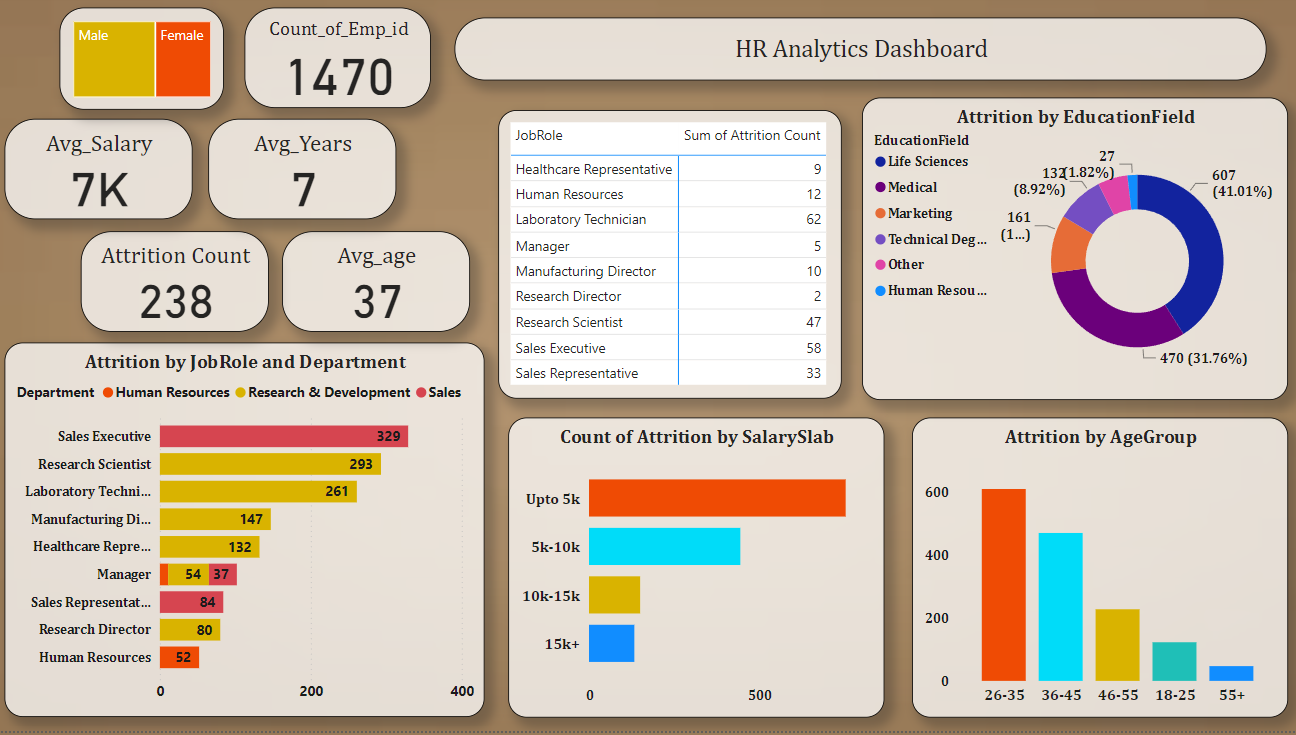

This screenshot's page, from the dashboard's own definition file:
{"tool":"powerbi","page":{"name":"Page 1","canvas":[1280,720],"ordinal":0},"visuals":[{"type":"barChart","title":"Attrition by JobRole and Department","fields":{"Category":["HR_Analytics.JobRole"],"Y":["CountNonNull(HR_Analytics.Attrition)"],"Series":["HR_Analytics.Department"]},"box":[12.3,340.3,469.3,366.4],"z":0},{"type":"columnChart","title":"Attrition by AgeGroup","fields":{"Category":["HR_Analytics.AgeGroup"],"Y":["CountNonNull(HR_Analytics.Attrition)"]},"box":[900.2,413,367.8,293.7],"z":1000},{"type":"barChart","fields":{"Category":["HR_Analytics.SalarySlab"],"Y":["CountNonNull(HR_Analytics.Attrition)"]},"box":[505,413,367.8,293.7],"z":2000},{"type":"card","title":"Count_of_Emp_id","fields":{"Values":["Count(HR_Analytics.EmpID)"]},"box":[247,12.3,182.5,98.8],"z":3000},{"type":"card","title":"Avg_age","fields":{"Values":["Avg(HR_Analytics.Age)"]},"box":[284,230.5,183.9,98.8],"z":4000},{"type":"card","title":"Attrition Count","fields":{"Values":["Sum(HR_Analytics.Attrition Count)"]},"box":[86.4,230.5,183.9,98.8],"z":5000},{"type":"card","title":"Avg_Salary","fields":{"Values":["Avg(HR_Analytics.MonthlyIncome)"]},"box":[12.3,120.8,183.9,98.8],"z":6000},{"type":"card","title":"Avg_Years ","fields":{"Values":["Avg(HR_Analytics.YearsAtCompany)"]},"box":[211.3,120.8,183.9,98.8],"z":7000},{"type":"donutChart","title":"Attrition by EducationField","fields":{"Y":["CountNonNull(HR_Analytics.Attrition)"],"Category":["HR_Analytics.EducationField"]},"box":[850.8,100.2,417.2,296.4],"z":8000},{"type":"pivotTable","fields":{"Rows":["HR_Analytics.JobRole"],"Values":["Sum(HR_Analytics.Attrition Count)"]},"box":[495.4,112.5,336.2,282.7],"z":9000},{"type":"treemap","fields":{"Group":["HR_Analytics.Gender"],"Values":["Sum(HR_Analytics.Age)"]},"box":[65.9,12.3,160.5,100.2],"z":9001},{"type":"textbox","box":[452.8,22,794.5,61.7],"z":9002}]}

Visuals, with their boxes in screenshot pixels (x1, y1, x2, y2), scaled from the page's 1280x720 canvas onto the 1296x735 screenshot:
"Attrition by JobRole and Department" barChart: BBox(12, 347, 488, 721)
"Attrition by AgeGroup" columnChart: BBox(911, 422, 1284, 721)
barChart - HR_Analytics.SalarySlab x CountNonNull(HR_Analytics.Attrition): BBox(511, 422, 884, 721)
"Count_of_Emp_id" card: BBox(250, 13, 435, 113)
"Avg_age" card: BBox(288, 235, 474, 336)
"Attrition Count" card: BBox(87, 235, 274, 336)
"Avg_Salary" card: BBox(12, 123, 199, 224)
"Avg_Years " card: BBox(214, 123, 400, 224)
"Attrition by EducationField" donutChart: BBox(861, 102, 1284, 405)
pivotTable - HR_Analytics.JobRole x Sum(HR_Analytics.Attrition Count): BBox(502, 115, 842, 403)
treemap - HR_Analytics.Gender x Sum(HR_Analytics.Age): BBox(67, 13, 229, 115)
textbox: BBox(458, 22, 1263, 85)
